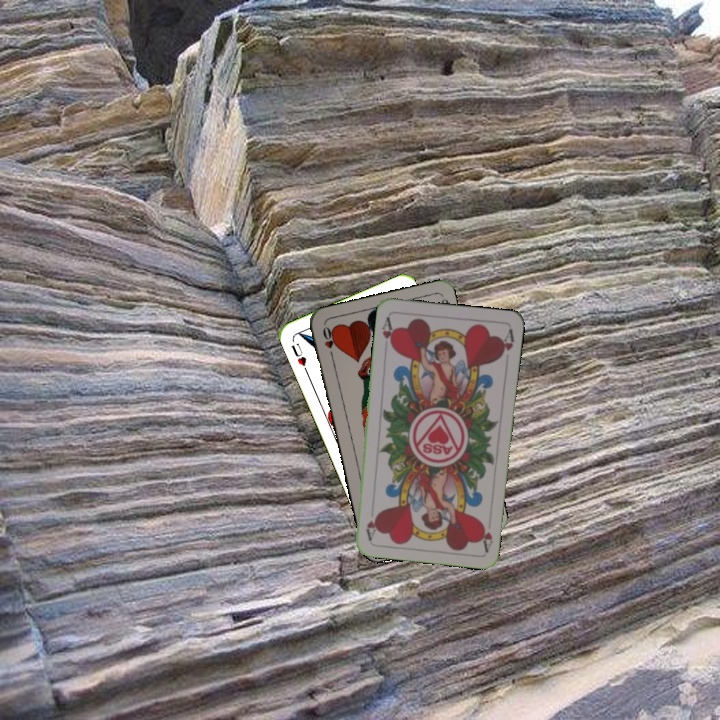HA: (378, 313, 397, 351), (476, 519, 495, 553)
HO: (318, 322, 338, 362)
HU: (287, 339, 310, 375)
